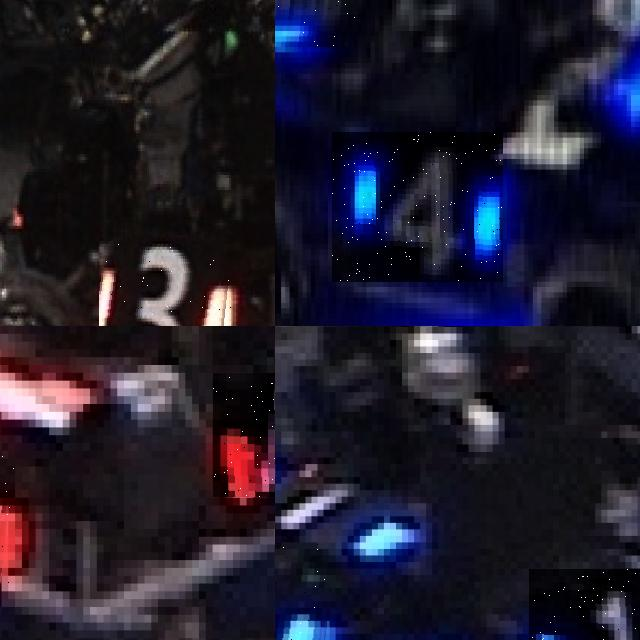B1: (275, 451, 420, 562), (529, 568, 640, 640), (275, 542, 335, 640)
B4: (332, 132, 503, 282), (275, 0, 362, 47)
R3: (99, 240, 235, 326)
R4: (212, 372, 275, 497)
